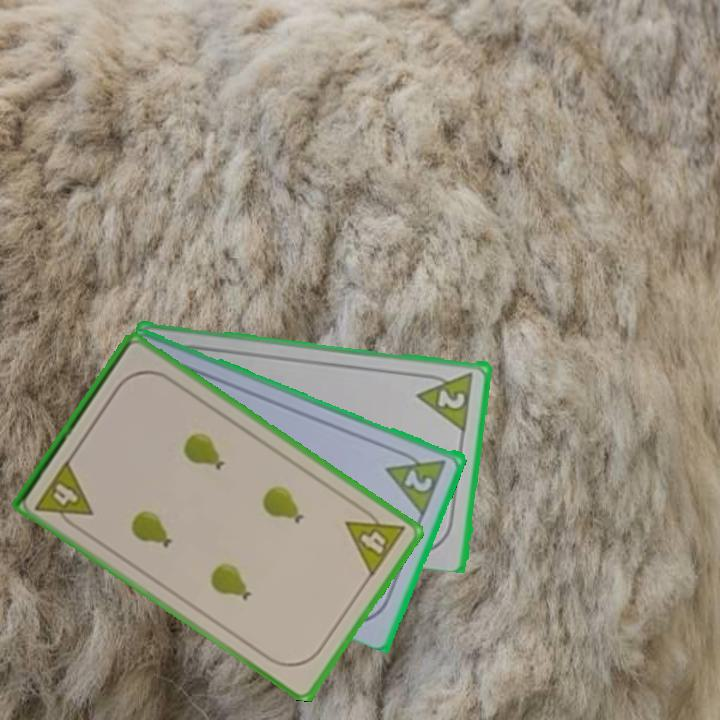2p: (414, 368, 477, 432), (401, 465, 436, 495)
4p: (342, 500, 409, 580), (32, 456, 96, 534)
